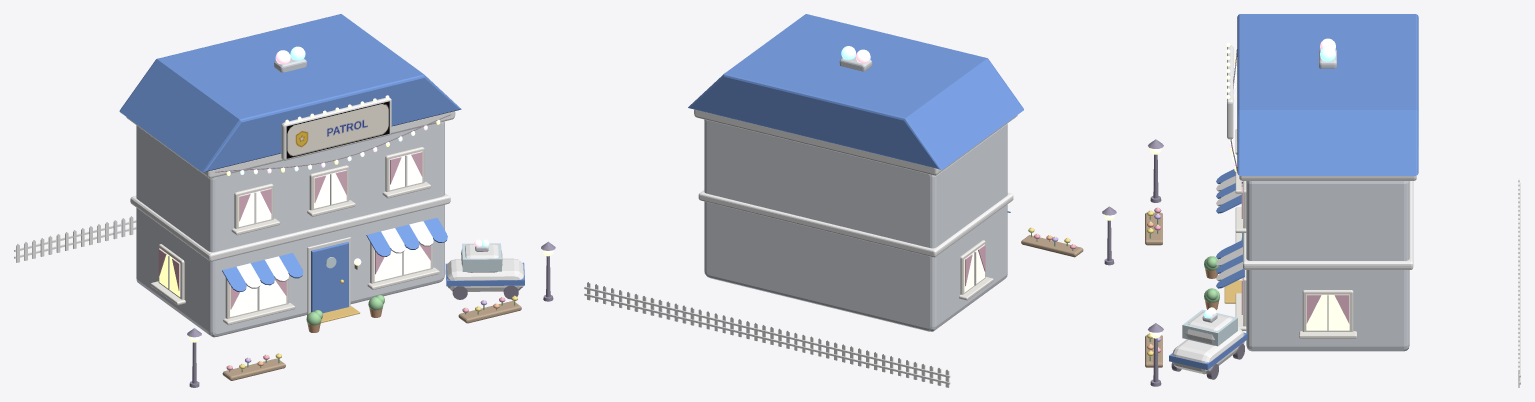
File: building_police_L09.glb
The picture shows the model from 3 angles, left to right: view 1: azimuth 30°, elevation 25°; view 2: azimuth 150°, elevation 25°; view 3: azimuth 270°, elevation 25°; orthographic projection. The views are drawn at different scales.
Visible parts, largest first — view 1: Body, police_L9; view 2: Body, police_L9; view 3: Body, police_L9.
Part boxes in pixels (left/top/right/bottom): Body: left=119, top=14, right=524, bottom=337; police_L9: left=14, top=216, right=555, bottom=387; Body: left=688, top=14, right=1023, bottom=331; police_L9: left=584, top=206, right=1116, bottom=387; Body: left=1169, top=14, right=1418, bottom=379; police_L9: left=1145, top=139, right=1520, bottom=387.
Bounding box in the file's own units: 25.2 × 15.26 × 20.75.
Materials: 34 (1 with a texture image).
